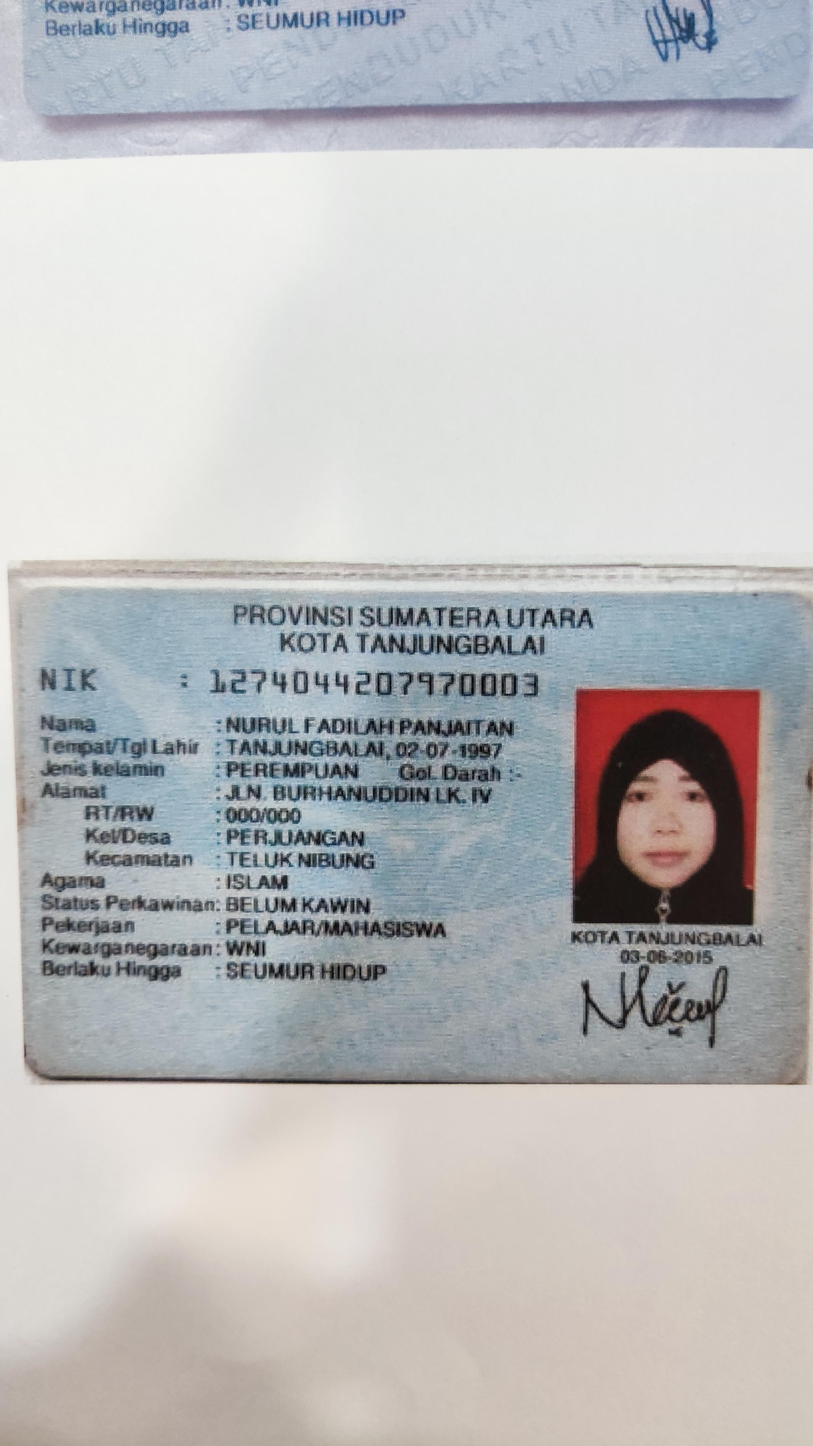ID-card: (19, 566, 798, 1075)
